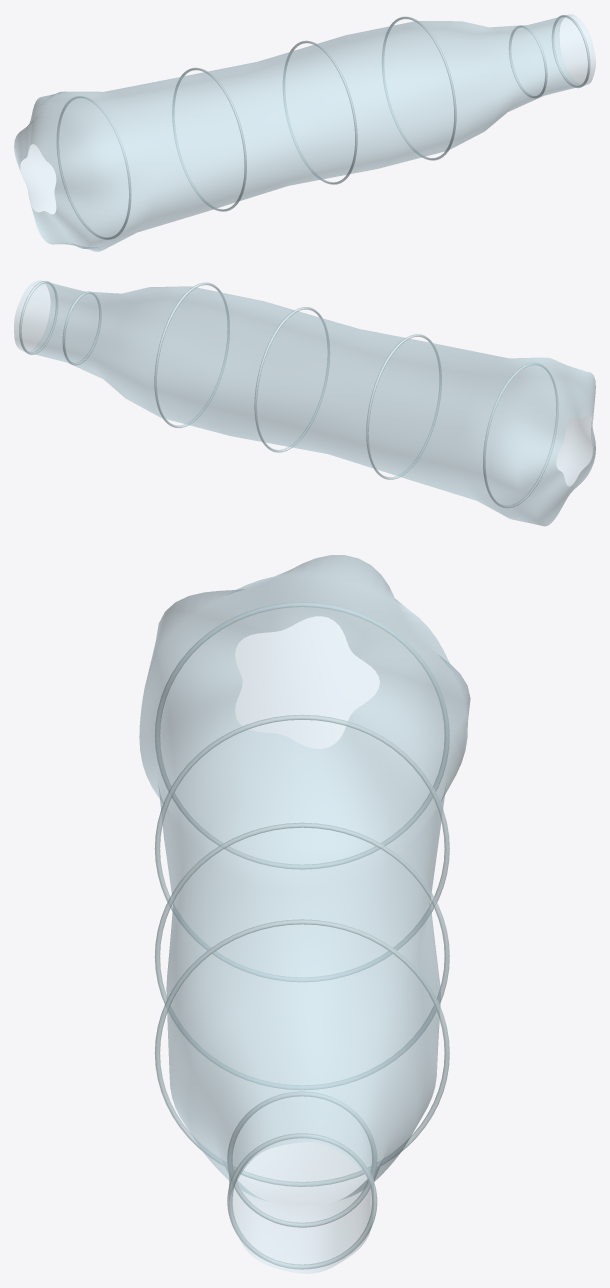
The model's file is pet_bottle_main.glb.
3 renders of one model, top to bottom at view 1: azimuth 30°, elevation 25°; view 2: azimuth 150°, elevation 25°; view 3: azimuth 270°, elevation 25°, orthographic. The views are drawn at different scales.
Visible parts, largest first — view 1: RW3_PET_Bottle_Main, RW3_PET_Ridge_1, RW3_PET_Ridge_2, RW3_PET_Ridge_4, RW3_PET_Ridge_3, RW3_PET_Ridge_5, RW3_PET_Ridge_6; view 2: RW3_PET_Bottle_Main, RW3_PET_Ridge_1, RW3_PET_Ridge_3, RW3_PET_Ridge_4, RW3_PET_Ridge_2, RW3_PET_Ridge_5, RW3_PET_Ridge_6; view 3: RW3_PET_Bottle_Main, RW3_PET_Ridge_4, RW3_PET_Ridge_1, RW3_PET_Ridge_2, RW3_PET_Ridge_3, RW3_PET_Ridge_6, RW3_PET_Ridge_5.
Part boxes in pixels (bbox=[...]): RW3_PET_Bottle_Main: bbox=[14, 14, 595, 251]; RW3_PET_Ridge_1: bbox=[56, 96, 131, 239]; RW3_PET_Ridge_2: bbox=[172, 67, 246, 211]; RW3_PET_Ridge_4: bbox=[382, 16, 456, 160]; RW3_PET_Ridge_3: bbox=[283, 40, 357, 184]; RW3_PET_Ridge_5: bbox=[508, 25, 547, 98]; RW3_PET_Ridge_6: bbox=[552, 15, 590, 88]; RW3_PET_Bottle_Main: bbox=[14, 280, 595, 526]; RW3_PET_Ridge_1: bbox=[483, 362, 558, 508]; RW3_PET_Ridge_3: bbox=[254, 307, 329, 452]; RW3_PET_Ridge_4: bbox=[154, 282, 229, 427]; RW3_PET_Ridge_2: bbox=[366, 334, 441, 479]; RW3_PET_Ridge_5: bbox=[62, 291, 101, 365]; RW3_PET_Ridge_6: bbox=[19, 281, 57, 354]; RW3_PET_Bottle_Main: bbox=[139, 555, 470, 1273]; RW3_PET_Ridge_4: bbox=[154, 919, 449, 1186]; RW3_PET_Ridge_1: bbox=[155, 602, 449, 869]; RW3_PET_Ridge_2: bbox=[154, 714, 449, 981]; RW3_PET_Ridge_3: bbox=[154, 822, 449, 1089]; RW3_PET_Ridge_6: bbox=[227, 1133, 377, 1269]; RW3_PET_Ridge_5: bbox=[227, 1091, 377, 1227].
Bounding box in the file's own units: 3.26 × 0.8612 × 0.8686.
